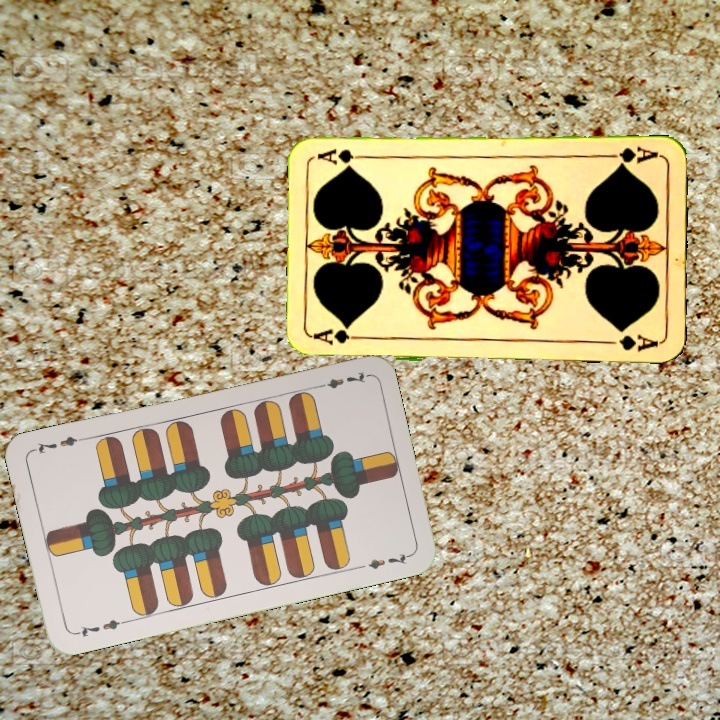E7: (311, 367, 370, 392), (71, 615, 129, 640)
GA: (602, 142, 661, 169), (311, 325, 370, 348)
